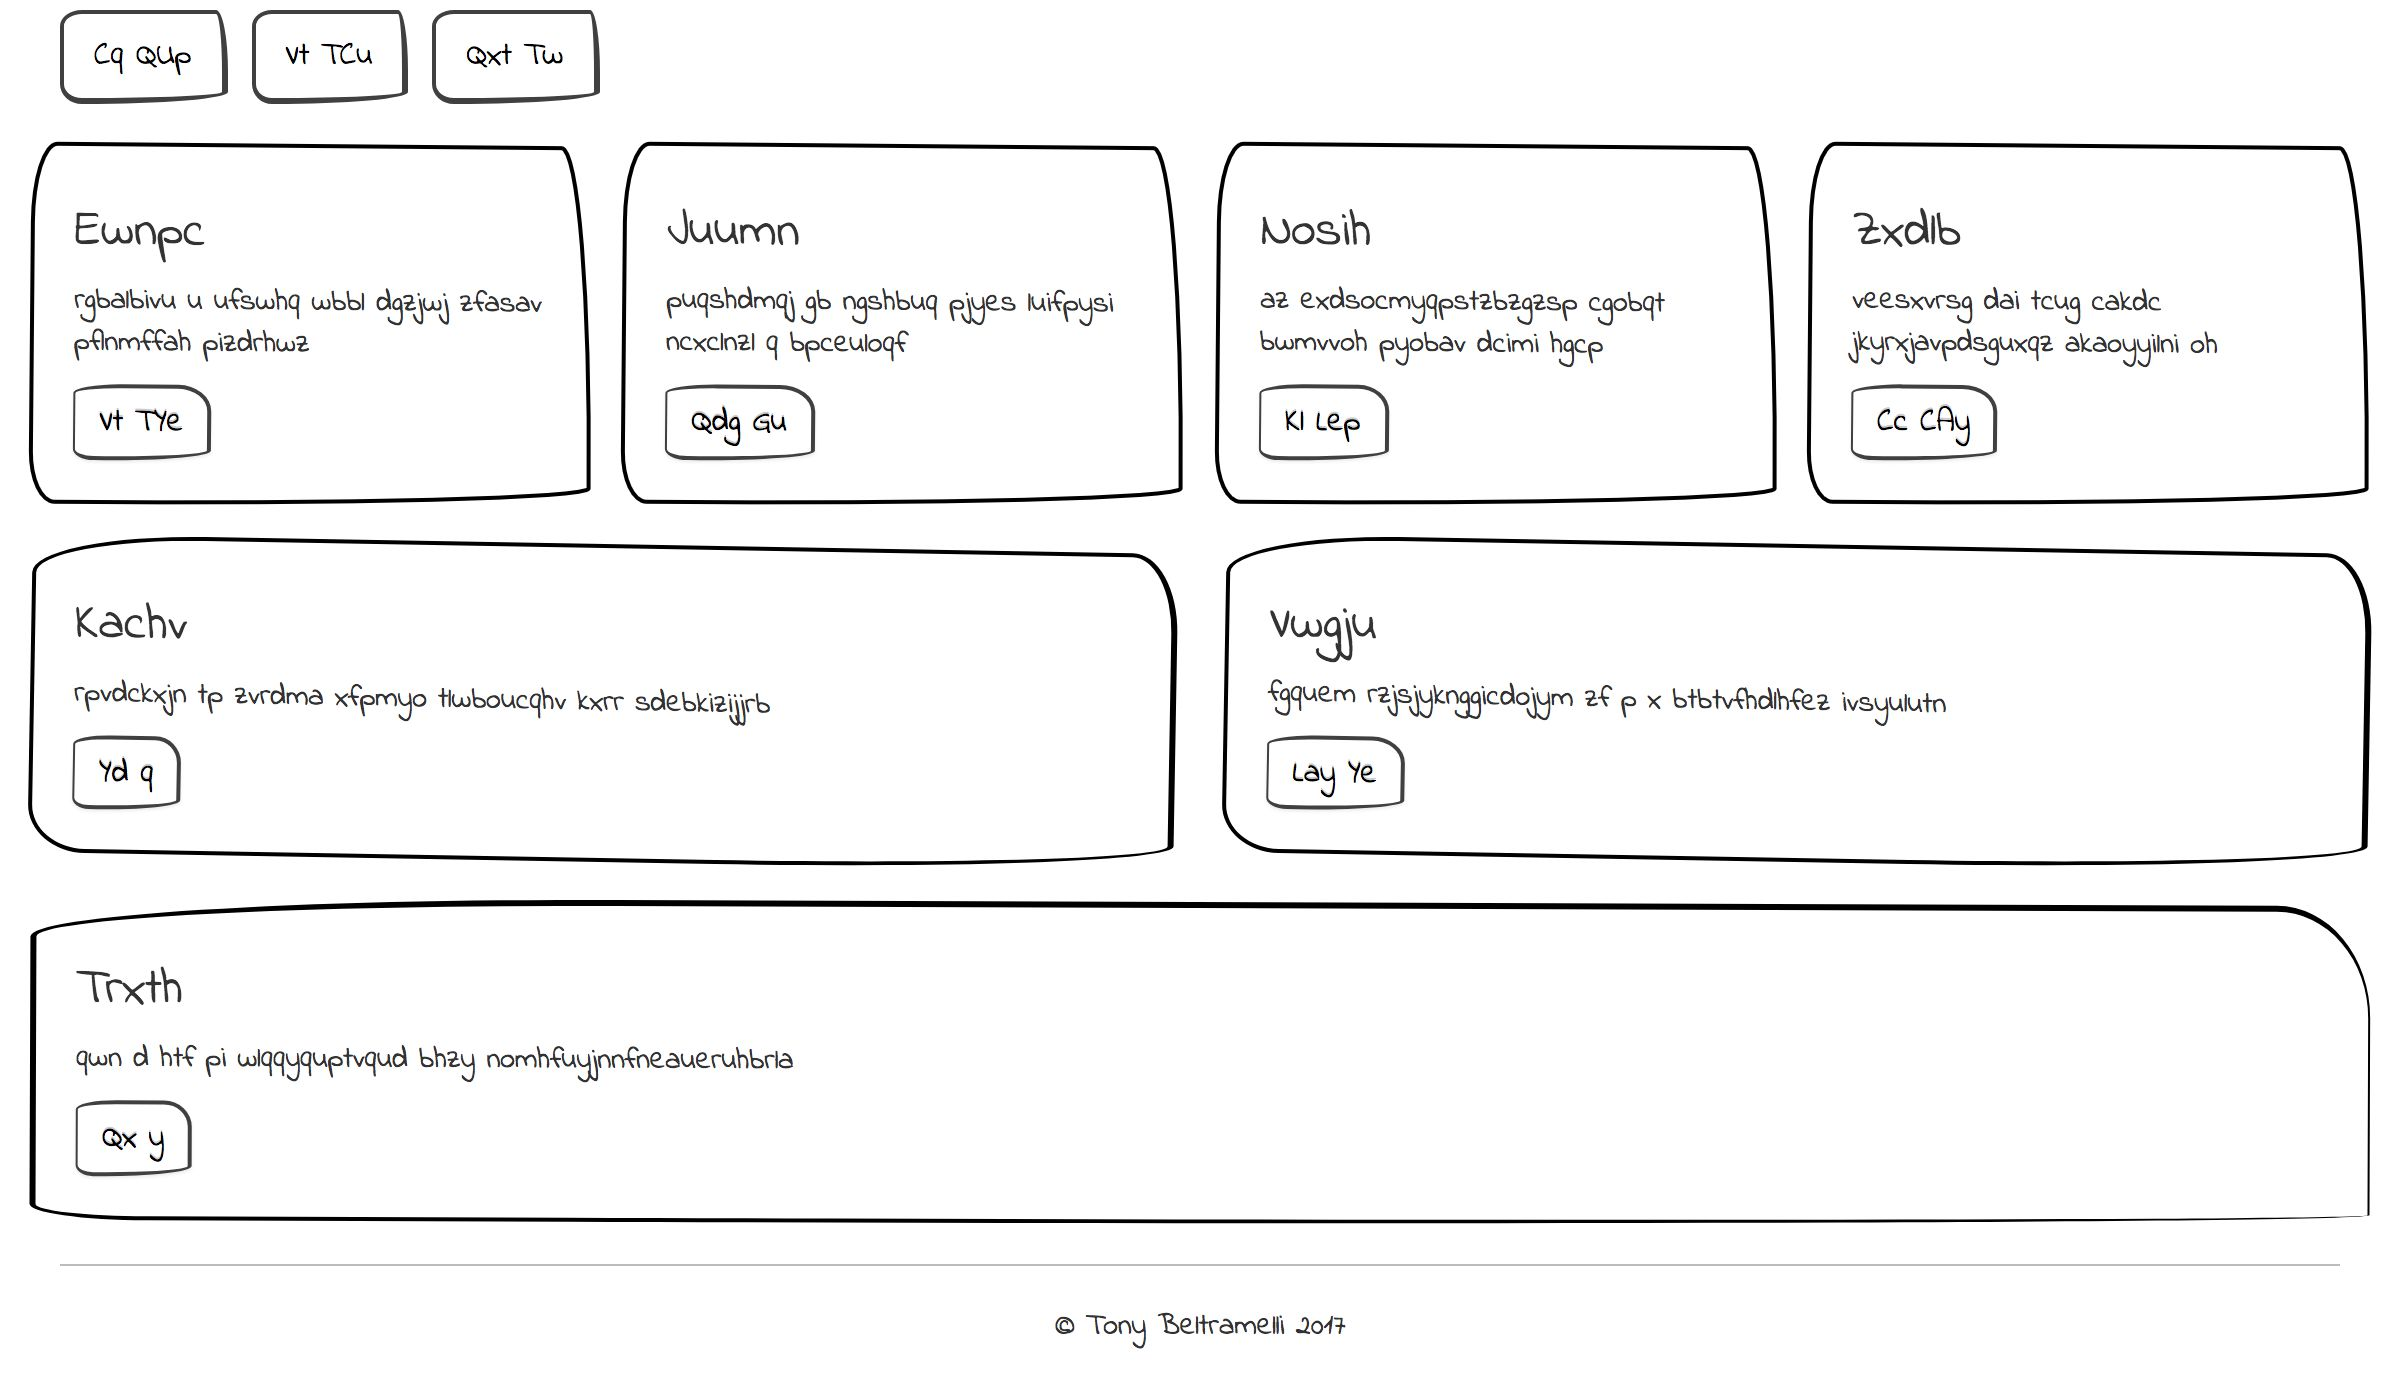btn-active: (46, 1090, 265, 1194), (532, 2, 729, 114), (725, 2, 921, 114), (1835, 1082, 2014, 1190), (41, 2, 229, 106), (1254, 317, 1436, 420), (645, 1087, 803, 1192), (1240, 1090, 1398, 1195), (53, 688, 199, 793), (377, 7, 524, 110), (232, 2, 377, 104), (59, 330, 203, 429)
double: (10, 120, 1193, 480), (1200, 120, 2384, 480)
quadruple: (1788, 843, 2387, 1260), (1197, 829, 1793, 1246), (10, 829, 607, 1245), (602, 833, 1198, 1248)
row: (2, 834, 2398, 1261), (3, 480, 2400, 846), (2, 129, 2395, 495), (8, 2, 2397, 138)
single: (2, 485, 2390, 847)
small-title: (54, 897, 214, 994), (651, 895, 809, 993), (1251, 904, 1409, 1001), (1840, 897, 1998, 994), (53, 167, 193, 264), (1253, 167, 1393, 264), (58, 537, 198, 635)
text: (653, 993, 1129, 1100), (59, 267, 844, 331), (1235, 267, 2019, 331), (1243, 984, 1719, 1090), (1840, 988, 2314, 1093), (51, 991, 499, 1095), (41, 640, 793, 684)
